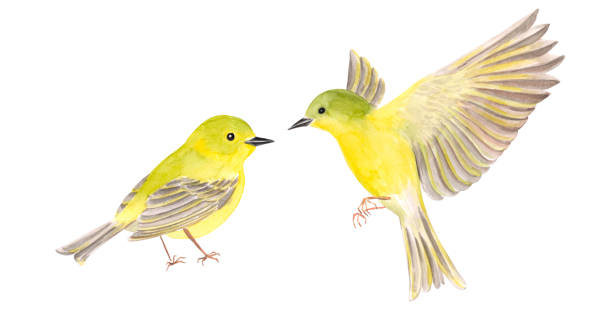Bird: (283, 4, 565, 303), (51, 112, 275, 270)
